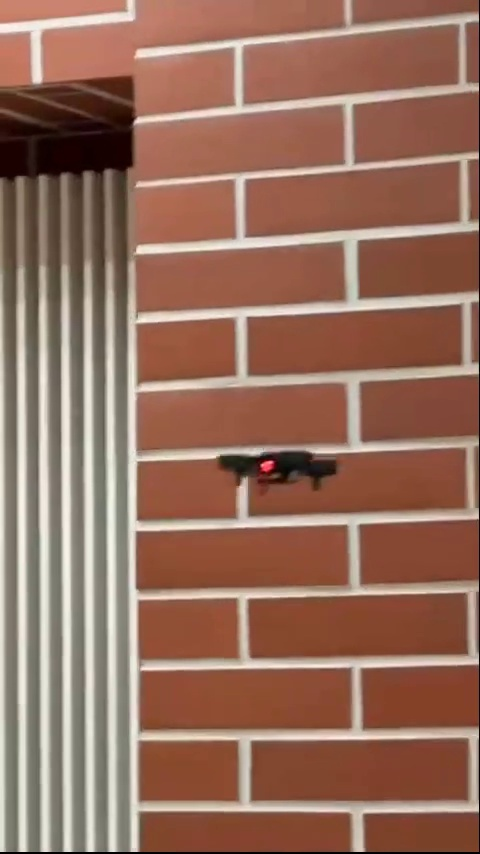drone: (217, 445, 344, 492)
